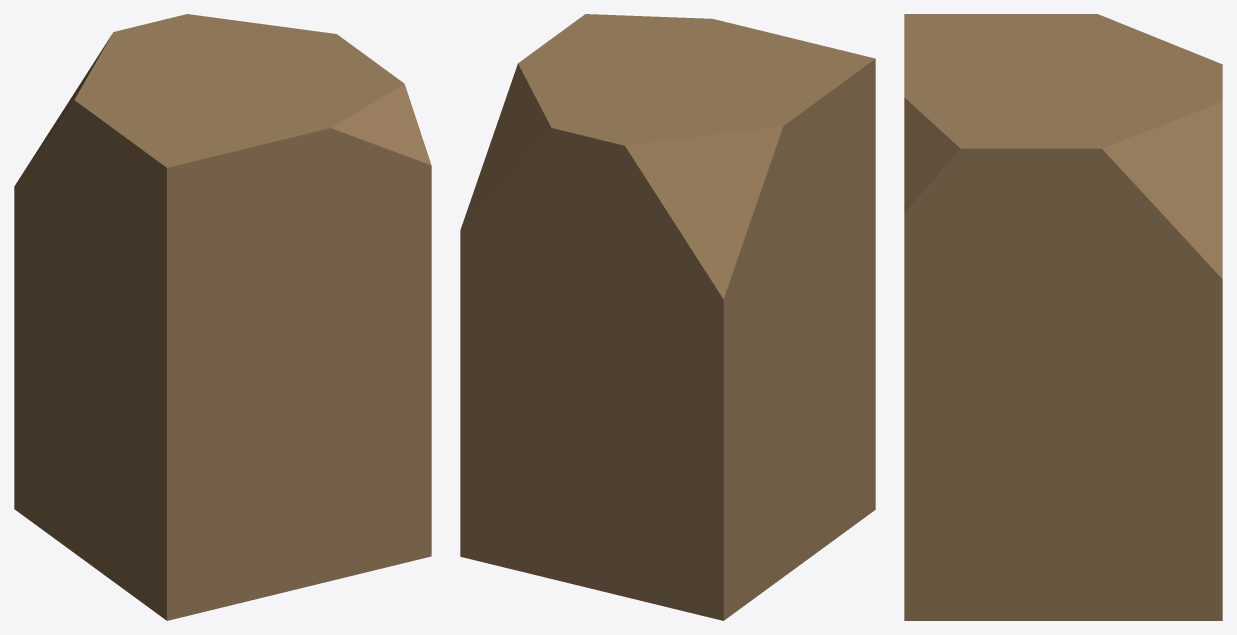
Rendered from SM_Env_Pebble_06.gltf.
3 views of the same model, side by side, from view 1: azimuth 30°, elevation 25°; view 2: azimuth 150°, elevation 25°; view 3: azimuth 270°, elevation 25° (orthographic). The views are drawn at different scales.
Visible parts, largest first — view 1: SM_Env_Pebble_06; view 2: SM_Env_Pebble_06; view 3: SM_Env_Pebble_06.
Boxes of the visible parts, left/top/right/bottom form: SM_Env_Pebble_06: left=14, top=14, right=431, bottom=620; SM_Env_Pebble_06: left=460, top=14, right=875, bottom=620; SM_Env_Pebble_06: left=904, top=14, right=1222, bottom=620.
Bounding box in the file's own units: 0.1072 × 0.1754 × 0.1072.
1 material, 1 textured.
